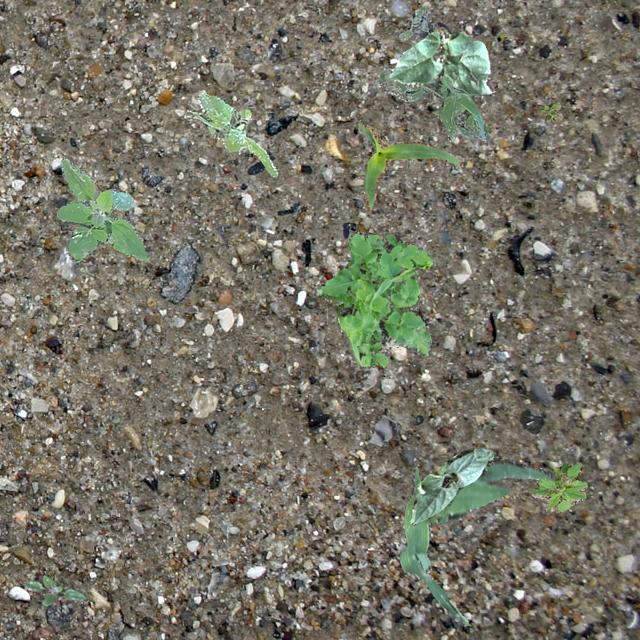crop: (399, 458, 554, 624), (358, 122, 462, 210), (388, 27, 492, 94), (409, 448, 492, 524)
weed: (316, 230, 432, 366), (378, 5, 490, 140), (56, 157, 146, 260), (182, 91, 276, 176), (530, 461, 586, 512), (22, 574, 84, 604), (538, 100, 562, 120)
